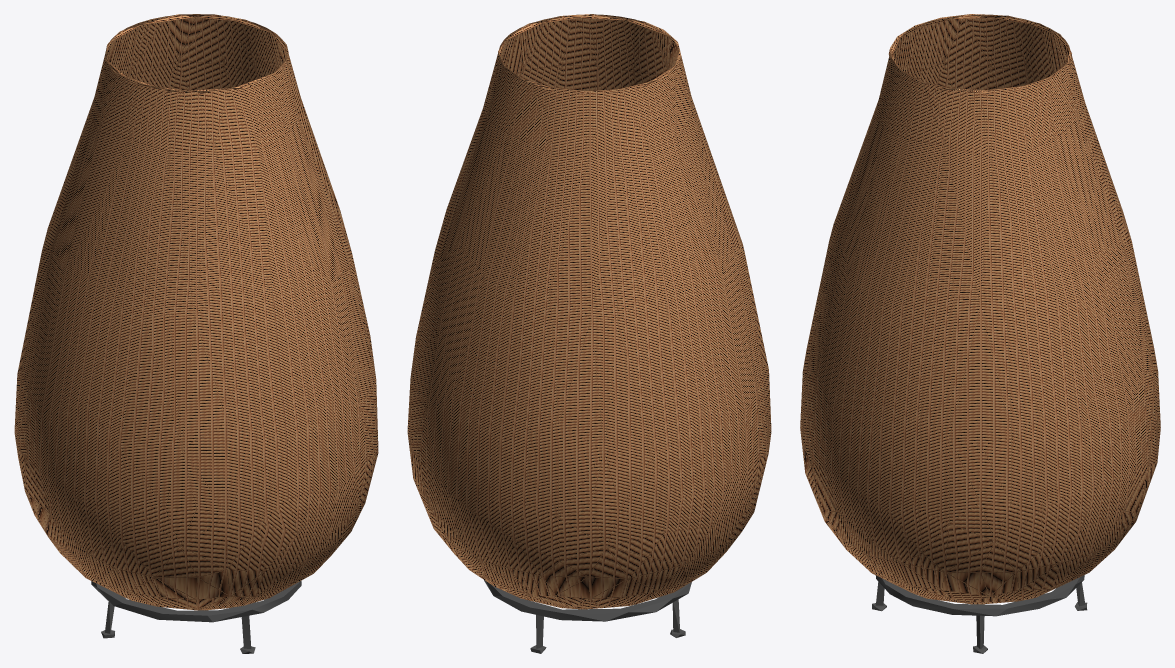
File: ratan.fbx
3 renders of one model, left to right at view 1: azimuth 30°, elevation 25°; view 2: azimuth 150°, elevation 25°; view 3: azimuth 270°, elevation 25°, orthographic.
Parts seen in each view (by area): view 1: ラタンスタンドライトローボルト ラージ（12V; view 2: ラタンスタンドライトローボルト ラージ（12V; view 3: ラタンスタンドライトローボルト ラージ（12V.
Boxes of the visible parts, x1,y1,x2,y2 form: ラタンスタンドライトローボルト ラージ（12V: (14,14,378,653); ラタンスタンドライトローボルト ラージ（12V: (407,14,771,653); ラタンスタンドライトローボルト ラージ（12V: (800,14,1160,653).
Size of the model in its own units: 50 by 85 by 50.
3 materials, 1 textured.
